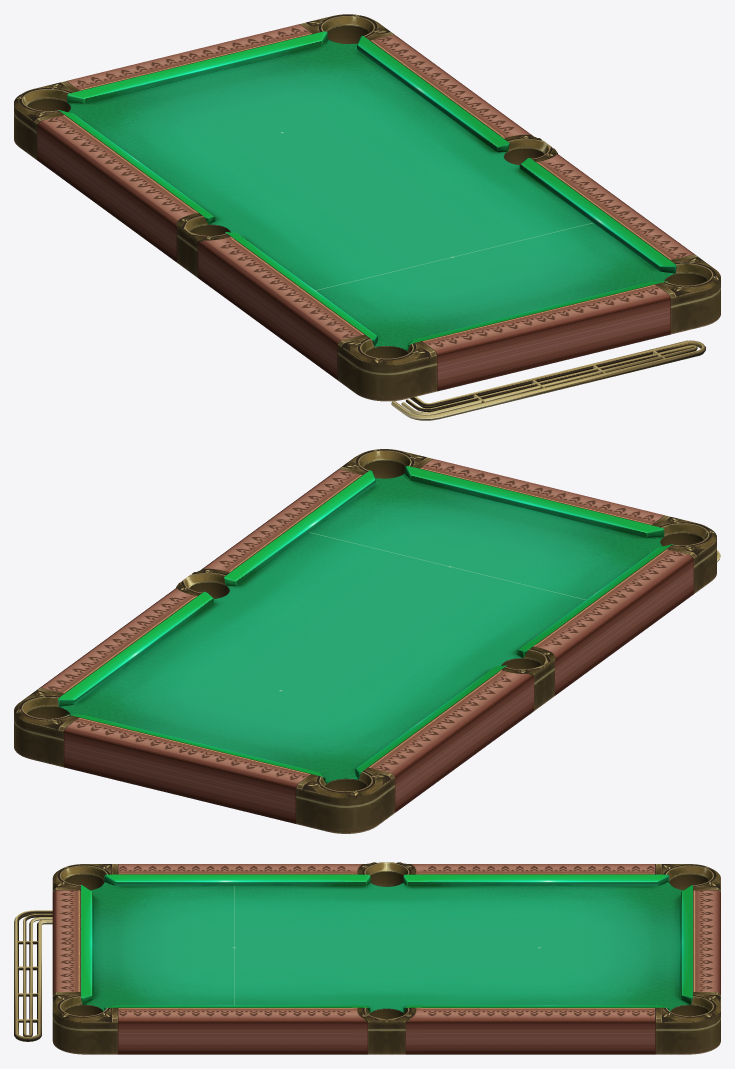
3 views of the same model, one above another, from view 1: azimuth 30°, elevation 25°; view 2: azimuth 150°, elevation 25°; view 3: azimuth 270°, elevation 25° (orthographic). The views are drawn at different scales.
Parts seen in each view (by area): view 1: qz; view 2: qz; view 3: qz.
Part boxes in pixels (x1,y1,x2,y2): qz: [14, 14, 720, 420]; qz: [14, 449, 720, 833]; qz: [14, 862, 720, 1054].
Size of the model in its own units: 9.69 by 1.2 by 18.4.
